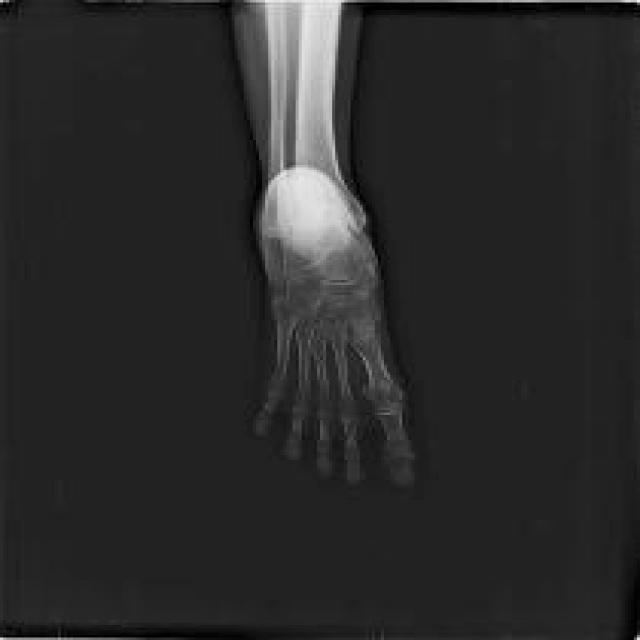normal: (248, 0, 414, 484)
